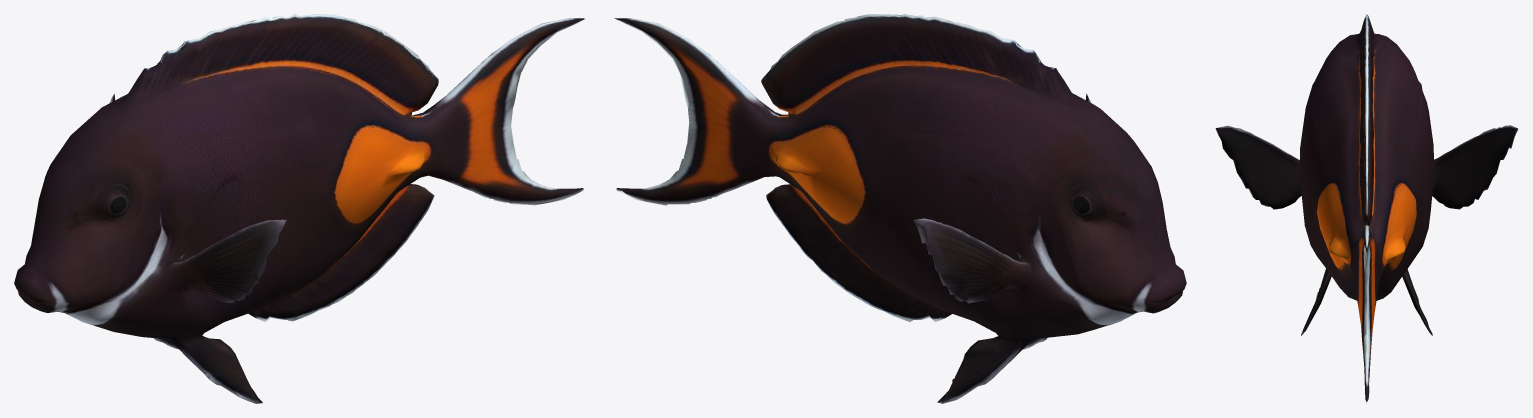
File: achilles_tang.34c76cd3ec.glb
3 views of the same model, side by side, from view 1: azimuth 30°, elevation 25°; view 2: azimuth 150°, elevation 25°; view 3: azimuth 270°, elevation 25° (orthographic). The views are drawn at different scales.
Visible parts, largest first — view 1: achilles_tang; view 2: achilles_tang; view 3: achilles_tang.
Part boxes in pixels (<box>): achilles_tang: <box>14,14,584,403</box>; achilles_tang: <box>614,14,1186,403</box>; achilles_tang: <box>1215,14,1518,403</box>.
Size of the model in its own units: 0.9744 by 0.5721 by 0.5134.
1 material, 1 textured.
